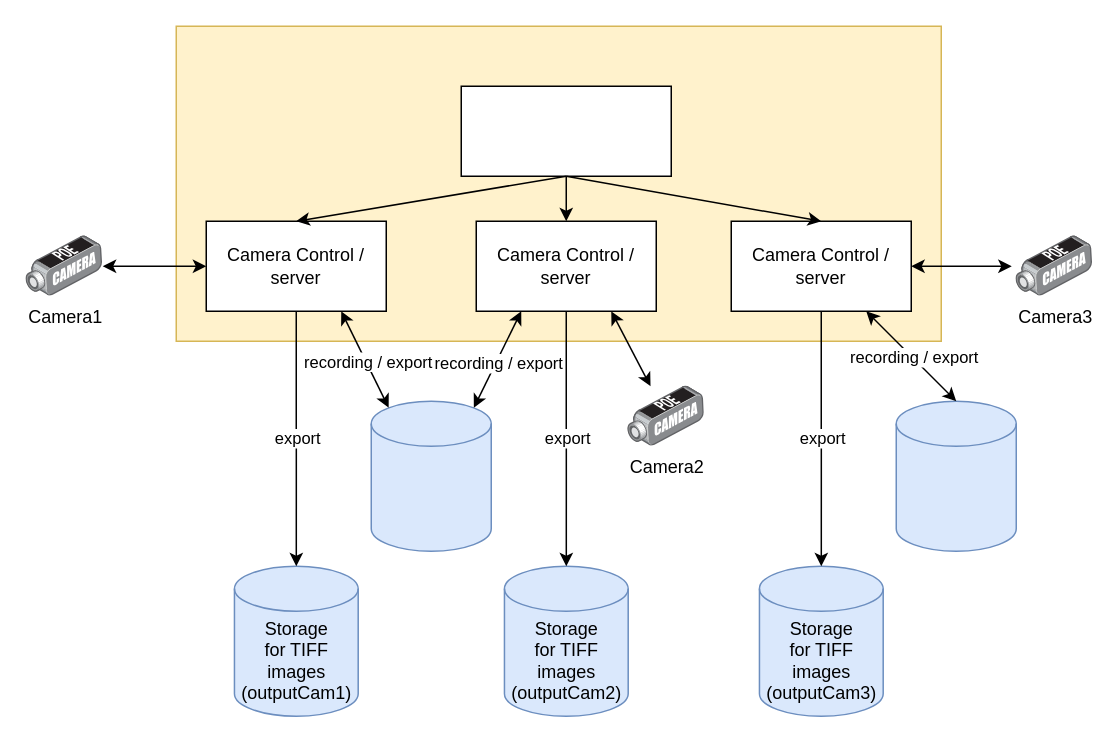
Image size: 1118x743. Some labels were removed from this diagram. The box of each missing label's shape, as (x1, y1, x2, y2) in pixels:
MultiRecorder tasks: (460, 85, 671, 176)
Process1: (175, 25, 941, 341)
Storage "s1" (data_s3_f1, data_s3_f2): (370, 400, 491, 551)
Storage "s2" (data_s3_f2): (895, 400, 1016, 551)
